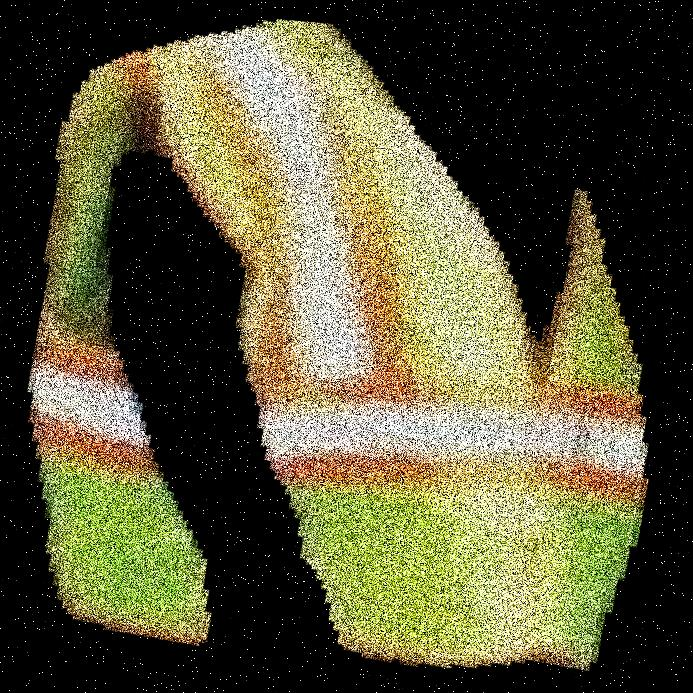Colete: (67, 0, 620, 692)
